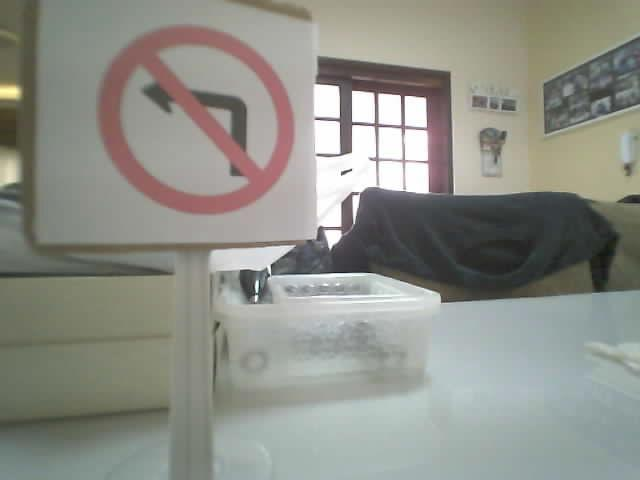R-4a_proibido-esquerda: (98, 24, 293, 213)
